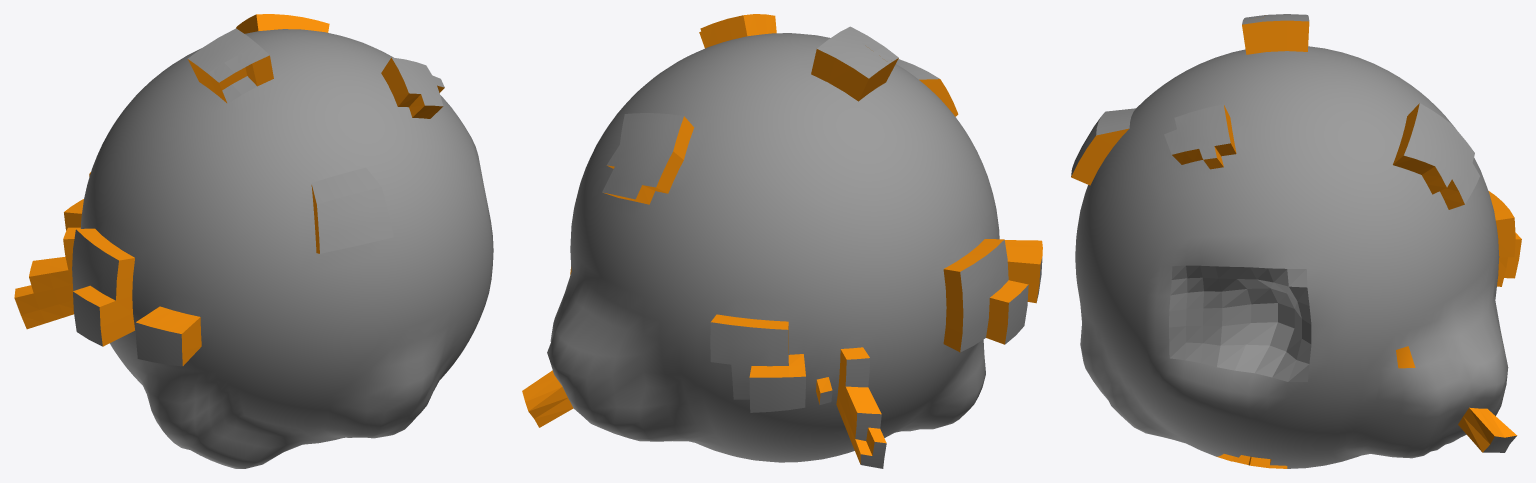
File: SphereDemoLevel.FBX
3 views of the same model, side by side, from view 1: azimuth 30°, elevation 25°; view 2: azimuth 150°, elevation 25°; view 3: azimuth 270°, elevation 25° (orthographic). The views are drawn at different scales.
Visible parts, largest first — view 1: SphereDemoZone; view 2: SphereDemoZone; view 3: SphereDemoZone.
Part boxes in pixels (x1=…): SphereDemoZone: x1=14, y1=14, x2=493, y2=468; SphereDemoZone: x1=522, y1=14, x2=1042, y2=468; SphereDemoZone: x1=1071, y1=14, x2=1521, y2=468.
Size of the model in its own units: 43.65 by 42.46 by 42.54.
